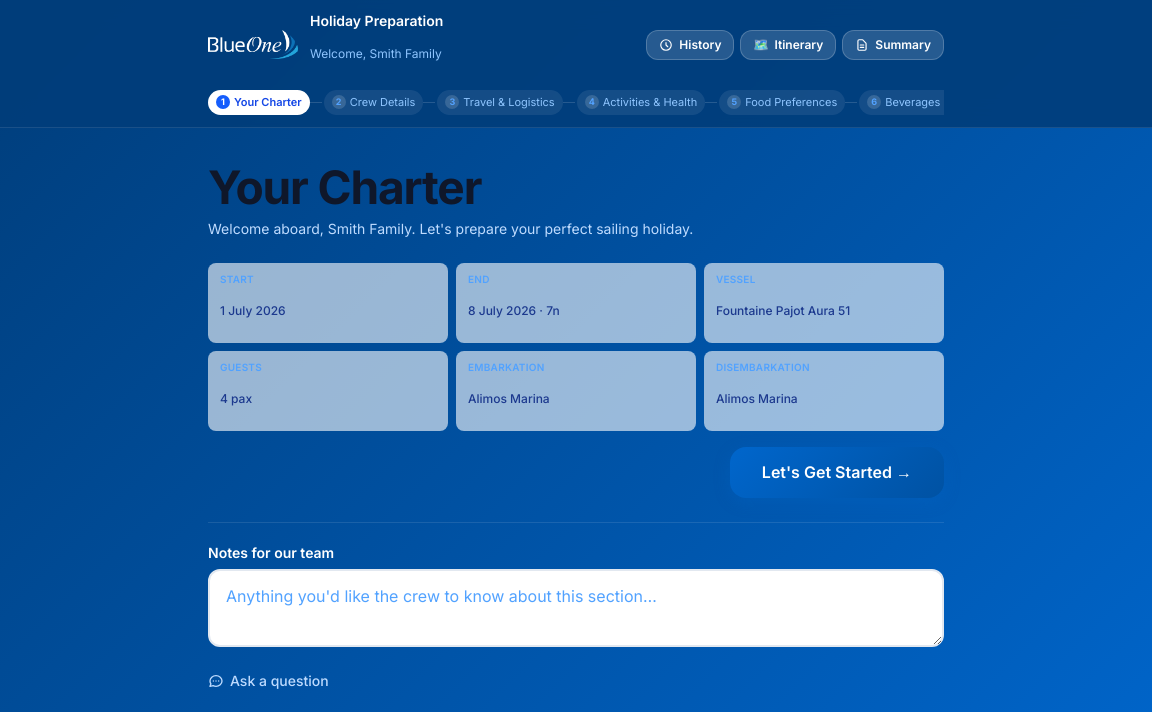
Test case: ClientSpaceClient — Step 1: Crew Details › renders one crew card per passenger
Check: the text "Holiday Preparation" is shown, box left=310, top=12, right=443, bottom=29
Click the button "Let's Get Started →" at (837, 473), box left=730, top=447, right=944, bottom=498
(page scrolled)
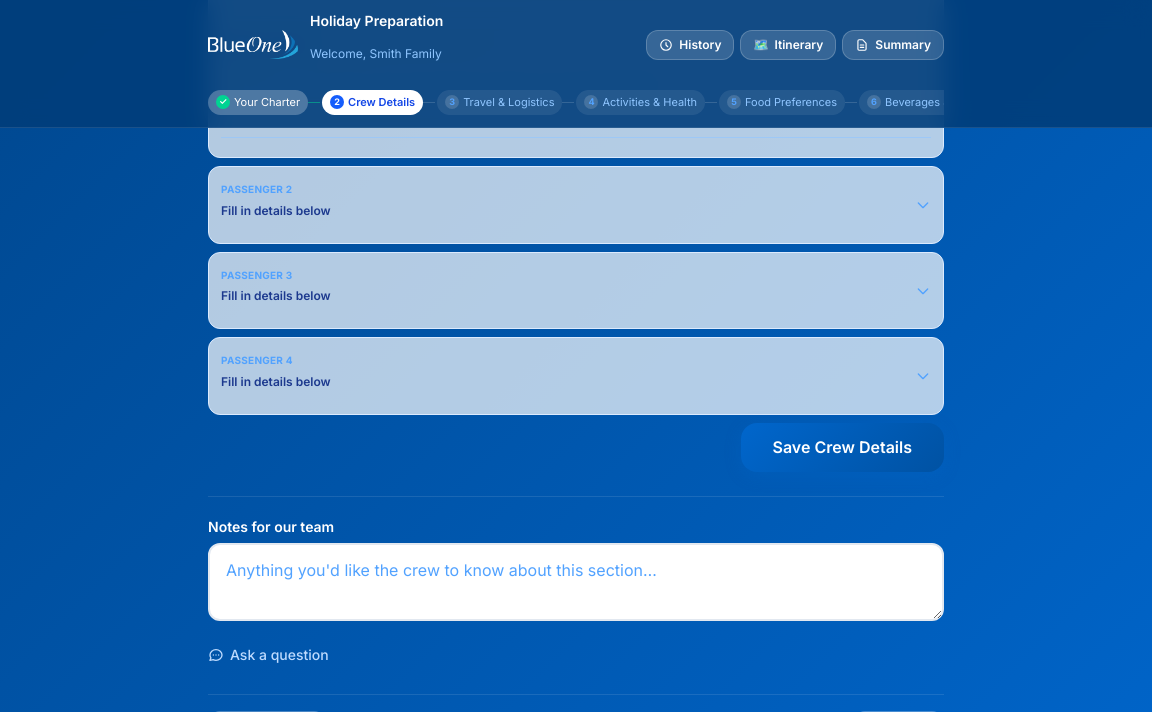
Check: the button "Save Crew Details" is shown, box left=740, top=423, right=944, bottom=472
Check: the text "Passenger 4" is shown, box left=221, top=354, right=293, bottom=366
